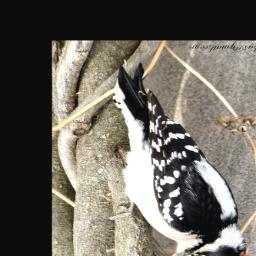Woodpecker: (110, 62, 247, 256)
